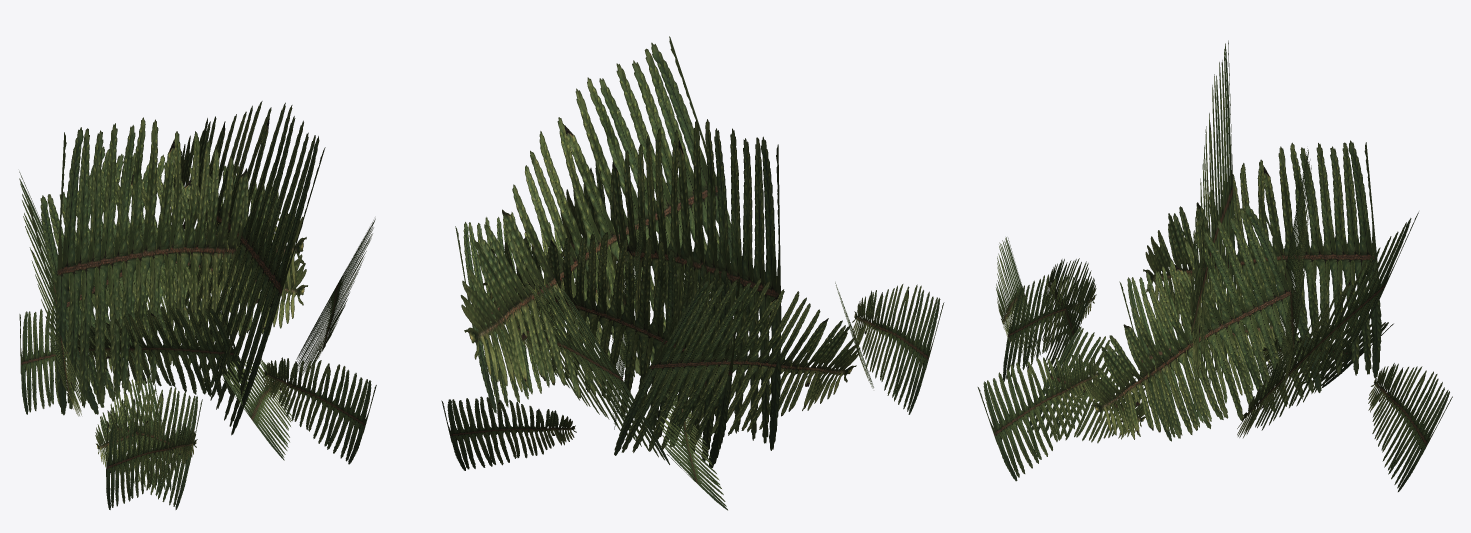
Rendered from GrassDetails.fbx.
3 renders of one model, left to right at view 1: azimuth 30°, elevation 25°; view 2: azimuth 150°, elevation 25°; view 3: azimuth 270°, elevation 25°, orthographic. The views are drawn at different scales.
Visible parts, largest first — view 1: Plant; view 2: Plant; view 3: Plant.
Part boxes in pixels (x1,y1,x2,y2): Plant: (19, 101, 376, 509); Plant: (441, 36, 944, 510); Plant: (977, 40, 1452, 491).
Bounding box in the file's own units: 73.87 × 64.55 × 71.74.
